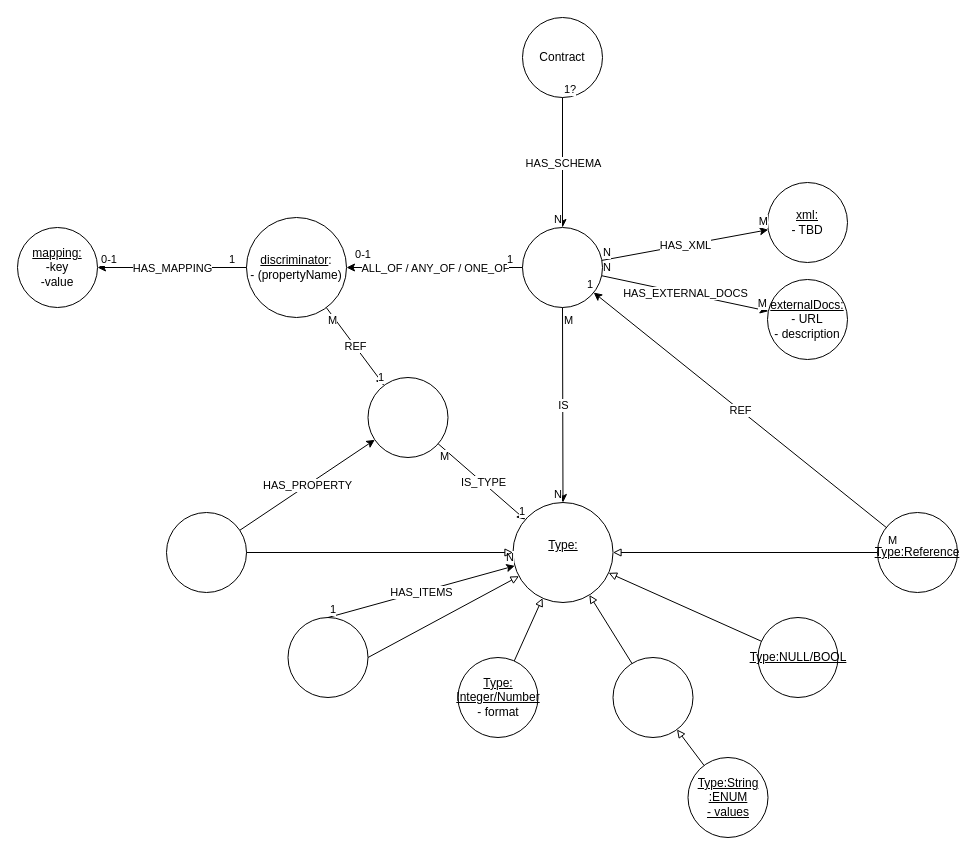
Image size: 977x855. Some labels were removed from this diagram. The shapes that lost their labels are listed below. From the top down, each one's centre as x and y in pixels, then its label:
[562,267]: Schema - name
[407,417]: Property: -name - description - (example)
[206,552]: Type: Object
[327,657]: Type: Array:
[652,697]: Type: String:
